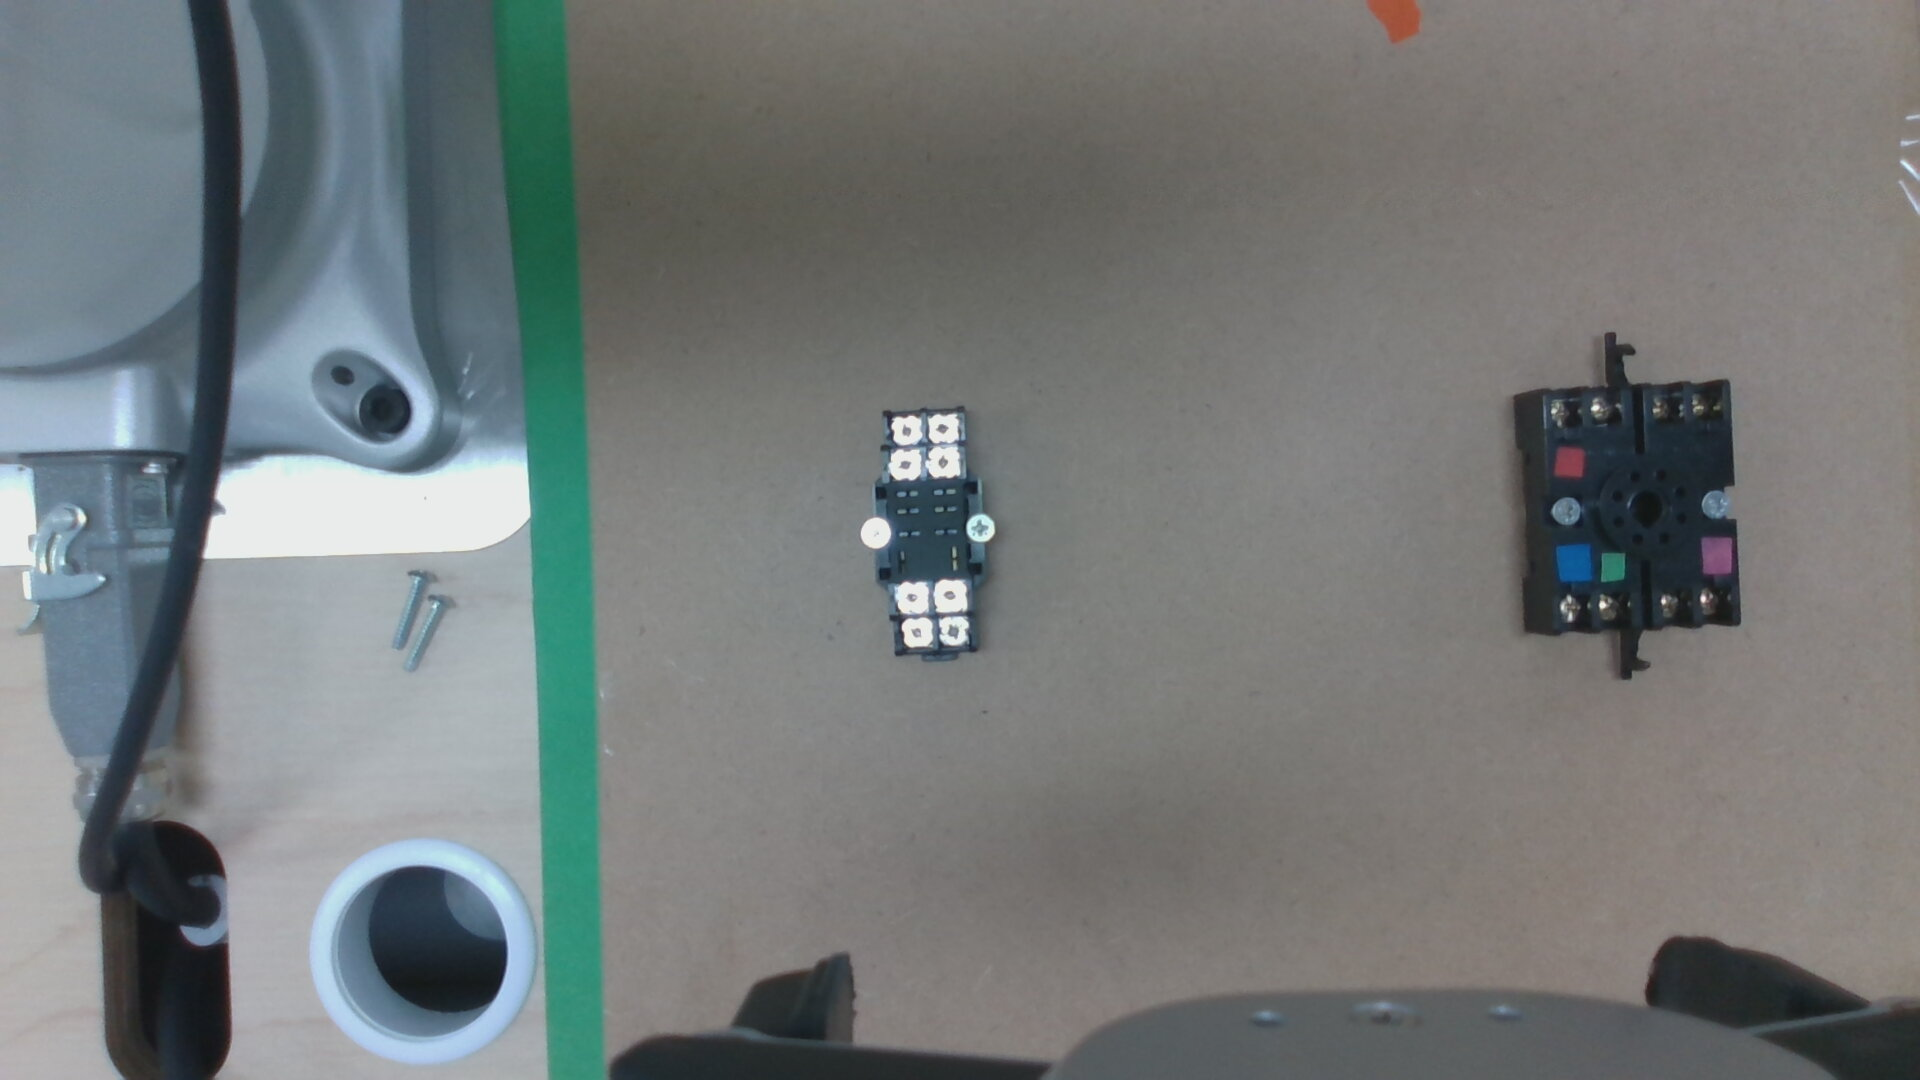relay 3: (928, 414, 957, 443)
relay 4: (889, 415, 920, 444)
relay 5: (938, 618, 969, 645)
relay 6: (898, 618, 931, 647)
relay 7: (935, 582, 967, 611)
relay 8: (895, 584, 927, 612)
